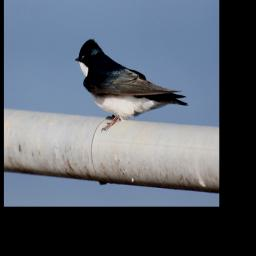Swallow: (75, 38, 188, 132)
